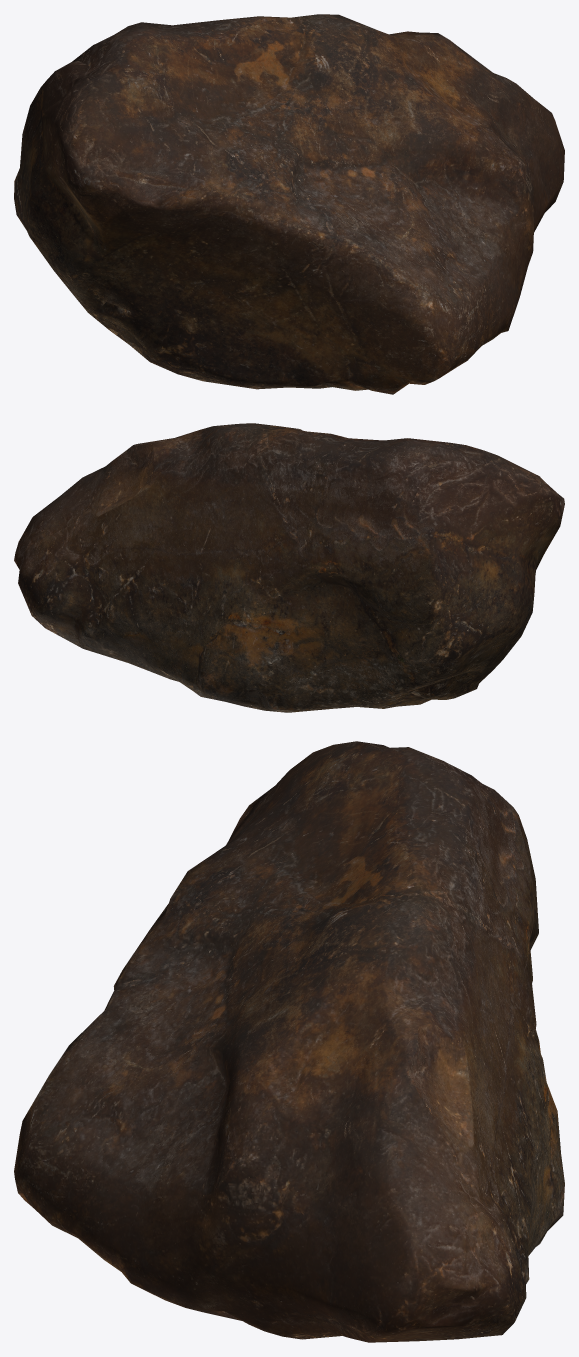
Rendered from vixtbdndw_tier_2.gltf.
The picture shows the model from 3 angles, top to bottom: view 1: azimuth 30°, elevation 25°; view 2: azimuth 150°, elevation 25°; view 3: azimuth 270°, elevation 25°; orthographic projection. The views are drawn at different scales.
Parts seen in each view (by area): view 1: vixtbdndw_LOD0_TIER2_000; view 2: vixtbdndw_LOD0_TIER2_000; view 3: vixtbdndw_LOD0_TIER2_000.
Boxes of the visible parts, left/top/right/bottom form: vixtbdndw_LOD0_TIER2_000: left=14, top=14, right=564, bottom=394; vixtbdndw_LOD0_TIER2_000: left=14, top=423, right=564, bottom=712; vixtbdndw_LOD0_TIER2_000: left=14, top=741, right=564, bottom=1342.
Bounding box in the file's own units: 0.4452 × 0.2463 × 0.3086.
Materials: 1 (1 with a texture image).
